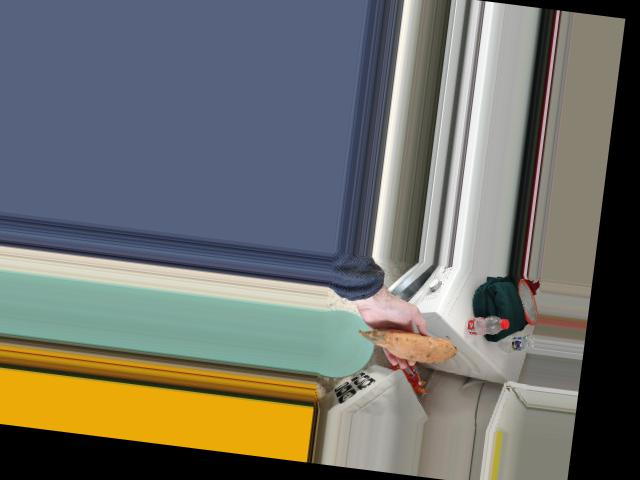sweet_potato: (359, 323, 458, 366)
